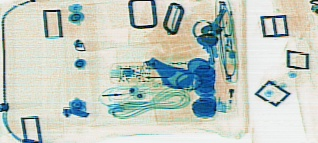lighter: (216, 55, 236, 114)
